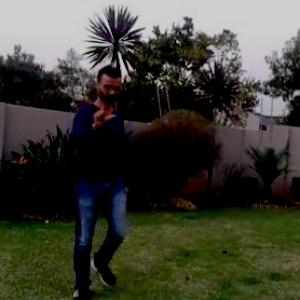land_hand: (88, 92, 118, 132)
